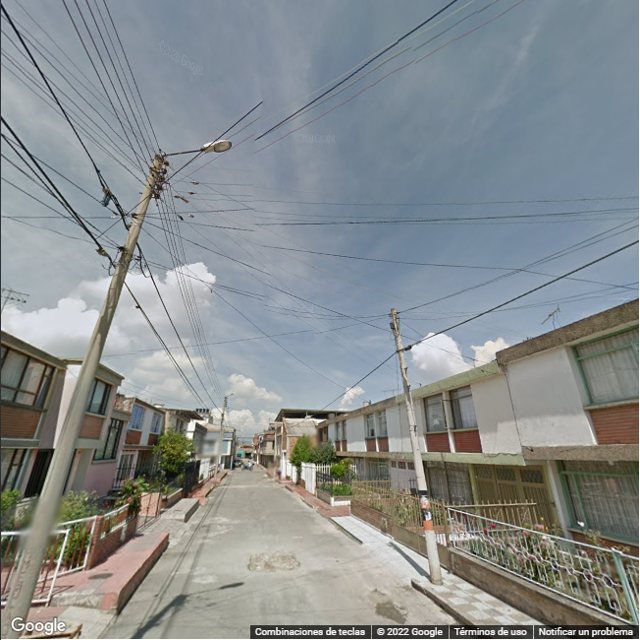D40: (252, 549, 297, 569), (367, 586, 393, 602)
